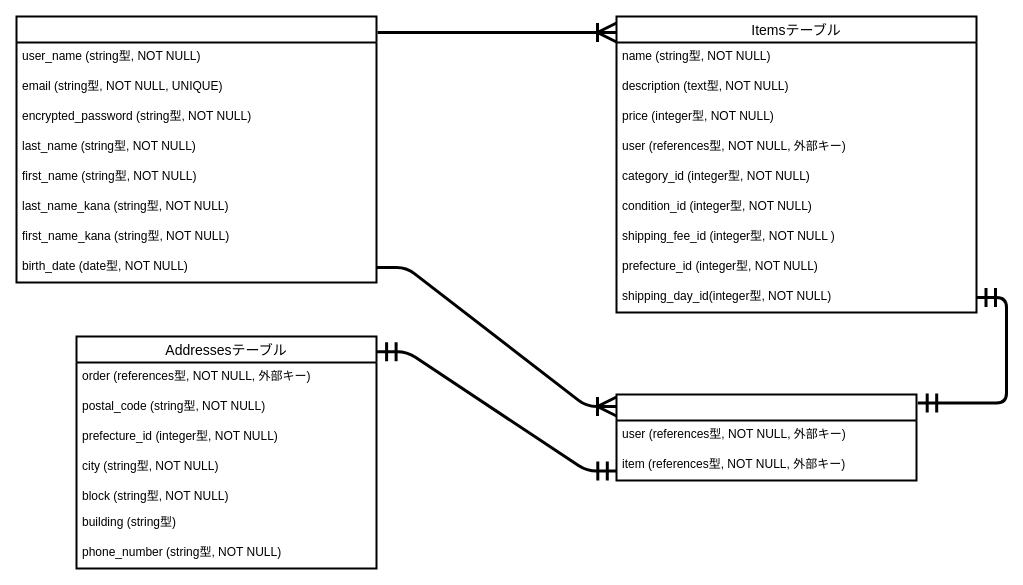
Image size: 1023x585. Some labels were removed from this diagram. Each missing label, with the box of its shape:
Ordersテーブル: (615, 393, 917, 481)
Usersテーブル: (15, 15, 377, 283)
